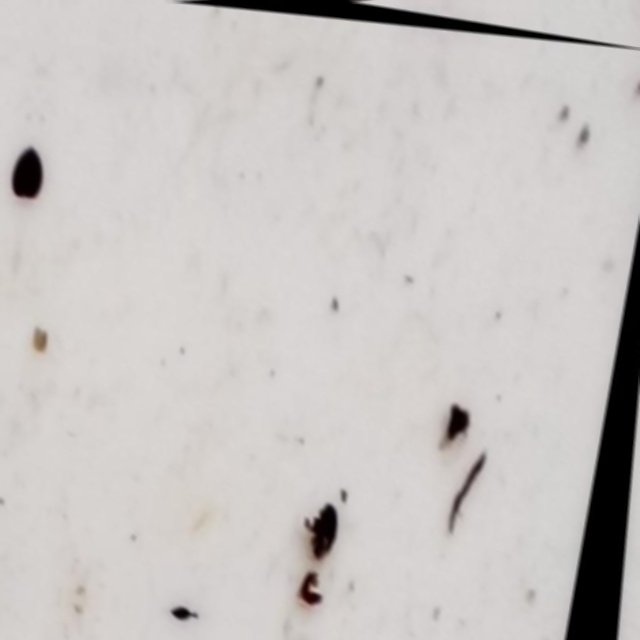varroa: (310, 498, 348, 563), (25, 136, 52, 195), (169, 603, 208, 614)
